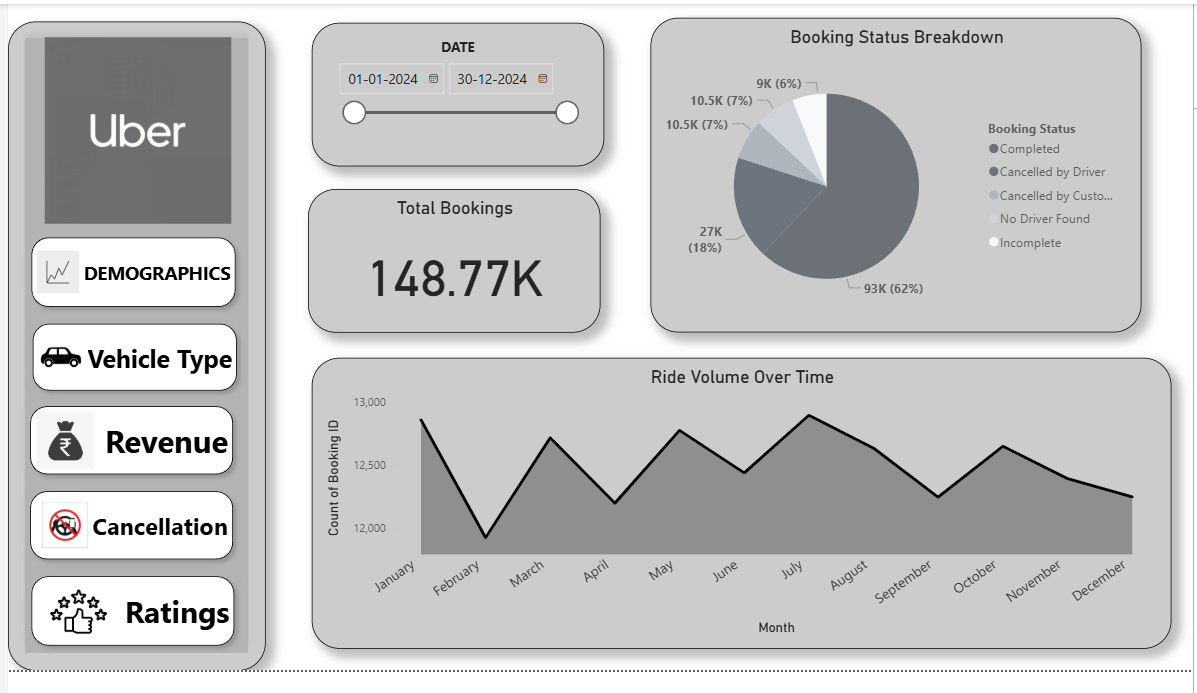

This screenshot's page, from the dashboard's own definition file:
{"tool":"powerbi","page":{"name":"Demographics","canvas":[1280,720],"ordinal":1},"visuals":[{"type":"shape","box":[0,19.2,278.6,701.2],"z":0},{"type":"image","box":[15.1,31.6,251.1,211.3],"z":1000},{"type":"shape","box":[16.5,242.9,238.8,93.3],"z":2000},{"type":"shape","box":[17.8,336.2,238.8,90.6],"z":3000},{"type":"shape","box":[15.1,425.4,237.4,91.9],"z":4000},{"type":"shape","box":[15.1,517.3,237.4,91.9],"z":5000},{"type":"shape","box":[16.5,609.3,237.4,93.3],"z":6000},{"type":"image","box":[9.5,262,89.1,55.4],"z":7000},{"type":"image","box":[29.9,533.7,63.4,59.7],"z":9000},{"type":"image","box":[25.7,355.2,63.5,52.7],"z":9500},{"type":"textbox","box":[328.2,20.3,316,155.3],"z":10000},{"type":"slicer","title":"DATE   ","fields":{"Values":["ncr_ride_bookings (2).Date"]},"box":[345.7,54,279.6,87.8],"z":11000},{"type":"pieChart","title":" Booking Status Breakdown","fields":{"Category":["ncr_ride_bookings (2).Booking Status"],"Y":["CountNonNull(ncr_ride_bookings (2).Booking Status)"]},"box":[694.2,14.9,530.7,340.3],"z":12000},{"type":"areaChart","title":"Ride Volume Over Time","fields":{"Category":["ncr_ride_bookings (2).Date.Variation.Date Hierarchy.Year","ncr_ride_bookings (2).Date.Variation.Date Hierarchy.Quarter","ncr_ride_bookings (2).Date.Variation.Date Hierarchy.Month","ncr_ride_bookings (2).Date.Variation.Date Hierarchy.Day"],"Y2":["CountNonNull(ncr_ride_bookings (2).Booking ID)"]},"box":[328.2,382.2,929.1,314.7],"z":13000},{"type":"card","title":"Total Bookings","fields":{"Values":["Count(ncr_ride_bookings (2).Booking ID)"]},"box":[324.1,199.9,316,155.3],"z":14000},{"type":"image","box":[25.7,436.2,72.9,71.6],"z":15000},{"type":"image","box":[39.2,609.1,74.3,93.2],"z":16000}]}

Visuals, with their boxes in screenshot pixels (x1, y1, x2, y2), scaled from the page's 1280x720 canvas onto the 1197x693 screenshot:
shape: [x1=0, y1=18, x2=261, y2=692]
image: [x1=14, y1=30, x2=249, y2=234]
shape: [x1=15, y1=234, x2=239, y2=324]
shape: [x1=17, y1=324, x2=240, y2=411]
shape: [x1=14, y1=409, x2=236, y2=498]
shape: [x1=14, y1=498, x2=236, y2=586]
shape: [x1=15, y1=586, x2=237, y2=676]
image: [x1=9, y1=252, x2=92, y2=305]
image: [x1=28, y1=514, x2=87, y2=571]
image: [x1=24, y1=342, x2=83, y2=393]
textbox: [x1=307, y1=20, x2=602, y2=169]
"DATE   " slicer: [x1=323, y1=52, x2=585, y2=136]
" Booking Status Breakdown" pieChart: [x1=649, y1=14, x2=1145, y2=342]
"Ride Volume Over Time" areaChart: [x1=307, y1=368, x2=1176, y2=671]
"Total Bookings" card: [x1=303, y1=192, x2=599, y2=342]
image: [x1=24, y1=420, x2=92, y2=489]
image: [x1=37, y1=586, x2=106, y2=676]
